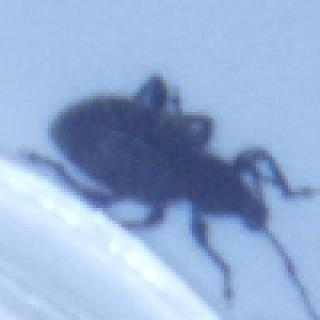bvw: (12, 71, 320, 320)
